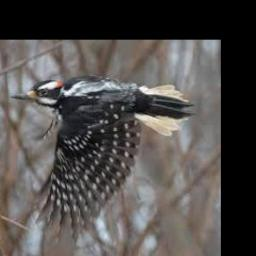Woodpecker: (11, 74, 194, 239)
